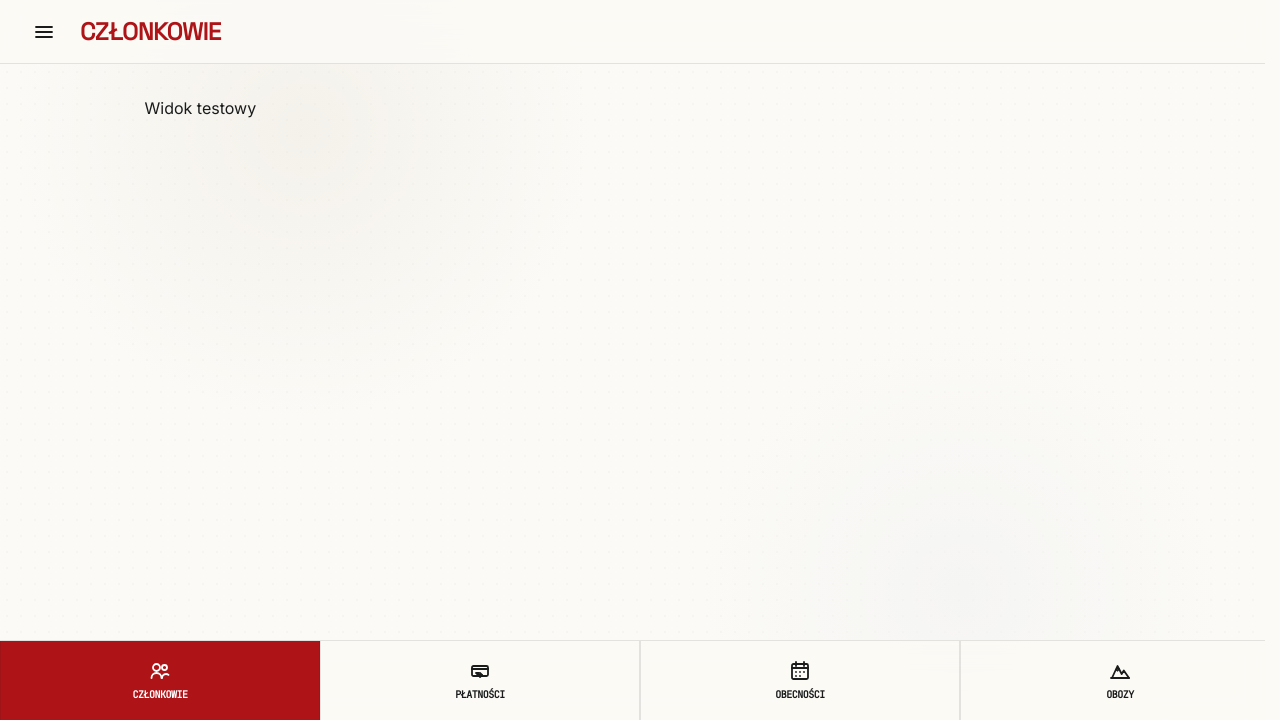
Test: AppShell › shows the floating backup error when backup export fails
Click the button with test id "shell-menu-button" at (44, 32), box [24,12,64,52]
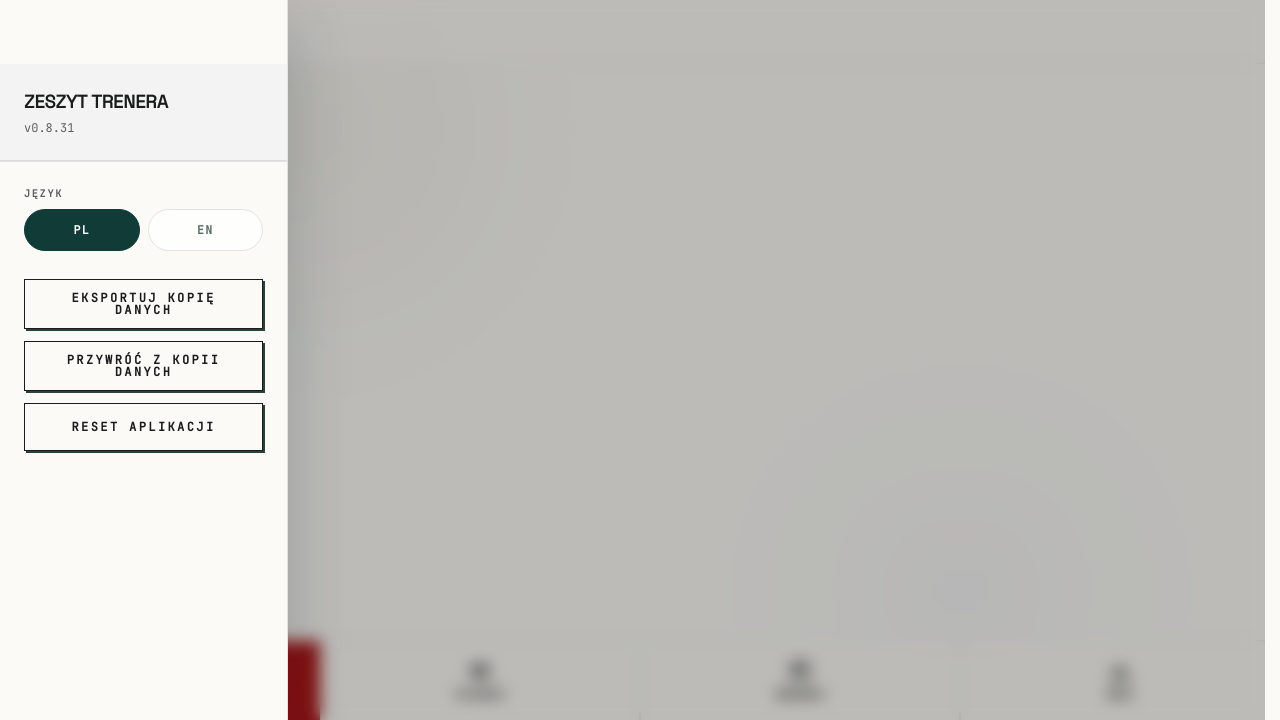
Click the button with test id "export-backup-button" at (144, 304), box [24,279,263,329]
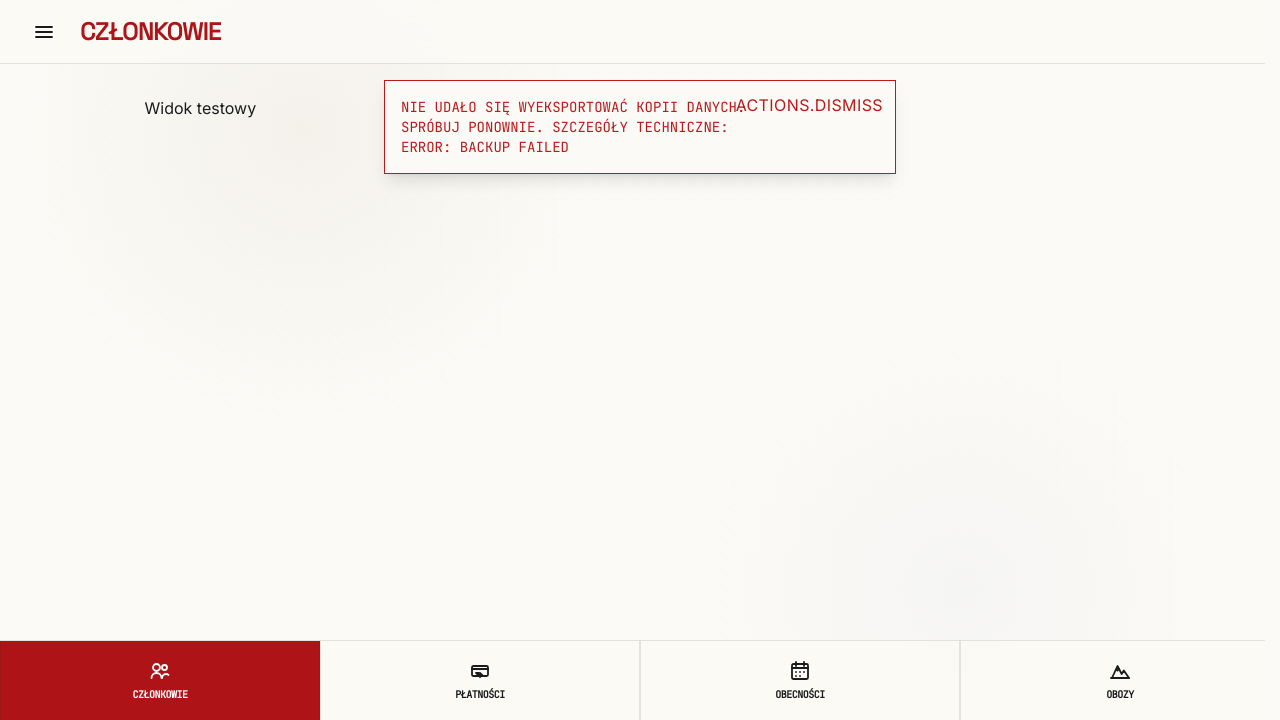
expect the text "Nie udało się wyeksportować kopii danych. Spróbuj ponownie." is shown: met, box [401,98,745,156]
